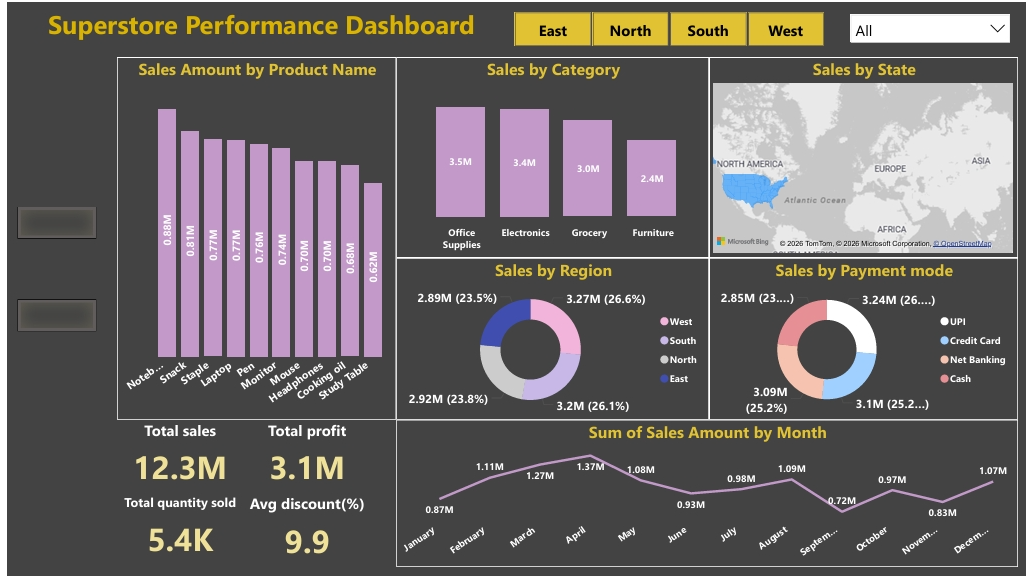

What the dashboard file says about the page in this screenshot:
{"tool":"powerbi","page":{"name":"Page 1","canvas":[1280,720],"ordinal":0},"visuals":[{"type":"actionButton","title":"Page 2","box":[13.3,256.7,98.3,40],"z":1000},{"type":"actionButton","box":[13,373,99.4,40.3],"z":2000},{"type":"textbox","box":[0,0,639.4,61.9],"z":3000},{"type":"slicer","fields":{"Values":["Superstore_Management_System.Region"]},"box":[612,5.8,437.8,56.2],"z":4000},{"type":"slicer","fields":{"Values":["Superstore_Management_System.Delivery Status"]},"box":[1049.8,5.8,220.3,56.2],"z":5000},{"type":"clusteredColumnChart","title":"Sales by Category","fields":{"Category":["Superstore_Management_System.Category"],"Y":["Sum(Superstore_Management_System.Sales Amount)"]},"box":[488.8,68.9,393.1,252],"z":6000},{"type":"filledMap","title":"Sales by State ","fields":{"Category":["Superstore_Management_System.State"],"Series":["Superstore_Management_System.Region"]},"box":[881.9,68.9,388,252],"z":7000},{"type":"donutChart","title":" Sales by Payment mode","fields":{"Category":["Superstore_Management_System.Payment mode"],"Y":["Sum(Superstore_Management_System.Sales Amount)"]},"box":[881.9,320.8,388,203.3],"z":8000},{"type":"donutChart","title":"Sales by Region","fields":{"Category":["Superstore_Management_System.Region"],"Y":["Sum(Superstore_Management_System.Sales Amount)"]},"box":[488.8,320.8,393.1,203.3],"z":9000},{"type":"lineChart","fields":{"Category":["Superstore_Management_System.Order Date.Variation.Date Hierarchy.Month"],"Y":["Sum(Superstore_Management_System.Sales Amount)"]},"box":[488.8,524.1,781.1,184.8],"z":10000},{"type":"clusteredColumnChart","title":" Sales Amount by Product Name","fields":{"Category":["Superstore_Management_System.Product Name"],"Y":["Sum(Superstore_Management_System.Sales Amount)"]},"box":[137.7,68.9,351.1,455.2],"z":11000},{"type":"card","title":"Total sales","fields":{"Values":["Sum(Superstore_Management_System.Sales Amount)"]},"box":[137.7,524.1,159.6,92.4],"z":12000},{"type":"card","title":"Total profit","fields":{"Values":["Sum(Superstore_Management_System.Profit)"]},"box":[297.3,524.1,159.6,92.4],"z":13000},{"type":"card","title":"Total quantity sold","fields":{"Values":["Sum(Superstore_Management_System.Quantity)"]},"box":[137.7,616.5,159.6,92.4],"z":14000},{"type":"card","title":"Avg discount(%)","fields":{"Values":["Avg(Superstore_Management_System.Discount (%))"]},"box":[297.3,616.5,159.6,92.4],"z":15000}]}

Visuals, with their boxes in screenshot pixels (x1, y1, x2, y2), scaled from the page's 1280x720 canvas onto the 1029x580 screenshot:
"Page 2" actionButton: <region>11, 207, 90, 239</region>
actionButton: <region>10, 300, 90, 333</region>
textbox: <region>0, 0, 514, 50</region>
slicer - Superstore_Management_System.Region: <region>492, 5, 844, 50</region>
slicer - Superstore_Management_System.Delivery Status: <region>844, 5, 1021, 50</region>
"Sales by Category" clusteredColumnChart: <region>393, 56, 709, 259</region>
"Sales by State " filledMap: <region>709, 56, 1021, 259</region>
" Sales by Payment mode" donutChart: <region>709, 258, 1021, 422</region>
"Sales by Region" donutChart: <region>393, 258, 709, 422</region>
lineChart - Superstore_Management_System.Order Date.Variation.Date Hierarchy.Month x Sum(Superstore_Management_System.Sales Amount): <region>393, 422, 1021, 571</region>
" Sales Amount by Product Name" clusteredColumnChart: <region>111, 56, 393, 422</region>
"Total sales" card: <region>111, 422, 239, 497</region>
"Total profit" card: <region>239, 422, 367, 497</region>
"Total quantity sold" card: <region>111, 497, 239, 571</region>
"Avg discount(%)" card: <region>239, 497, 367, 571</region>
